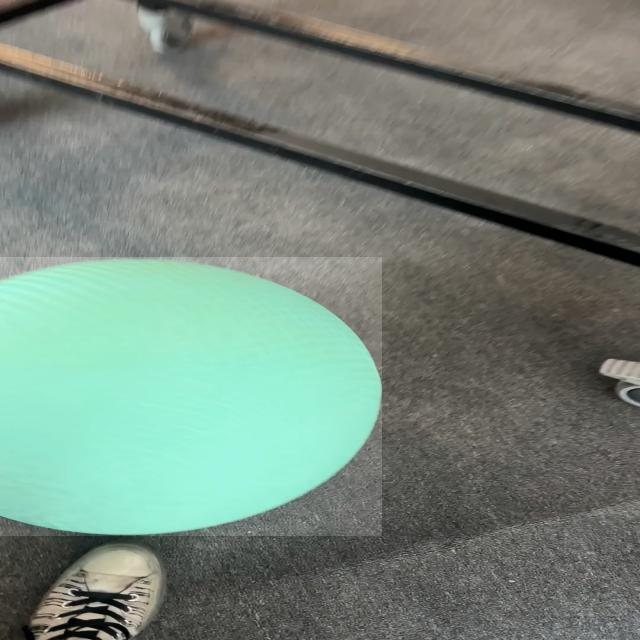Algae: (0, 257, 382, 536)
